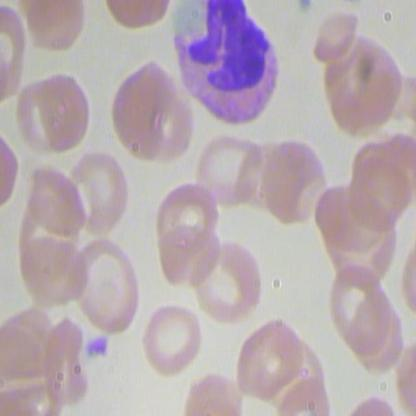RBC: (69, 233, 140, 337), (185, 241, 263, 326), (191, 126, 262, 218), (235, 312, 306, 404), (18, 221, 89, 313), (262, 134, 330, 227), (67, 148, 133, 240), (34, 67, 97, 157), (328, 262, 391, 352), (136, 301, 203, 378), (22, 1, 93, 54)
